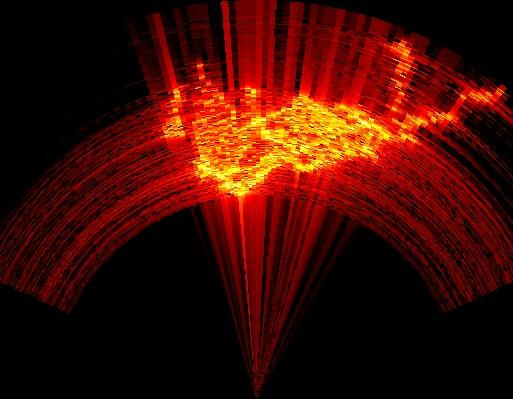shipwreck: (192, 64, 502, 195), (164, 89, 185, 138), (392, 42, 412, 88)
